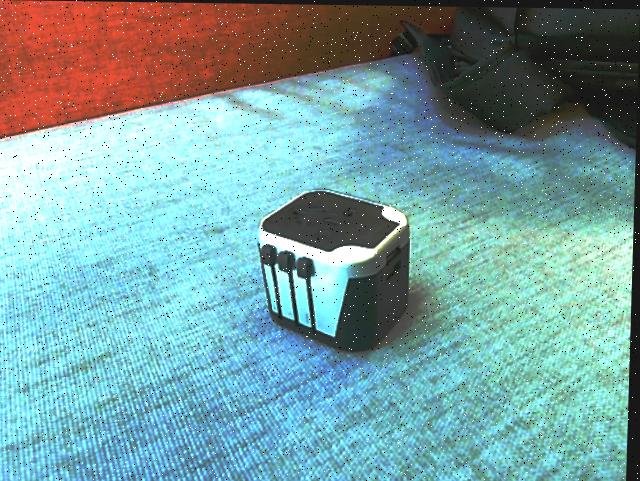adapter: (254, 187, 413, 351)
